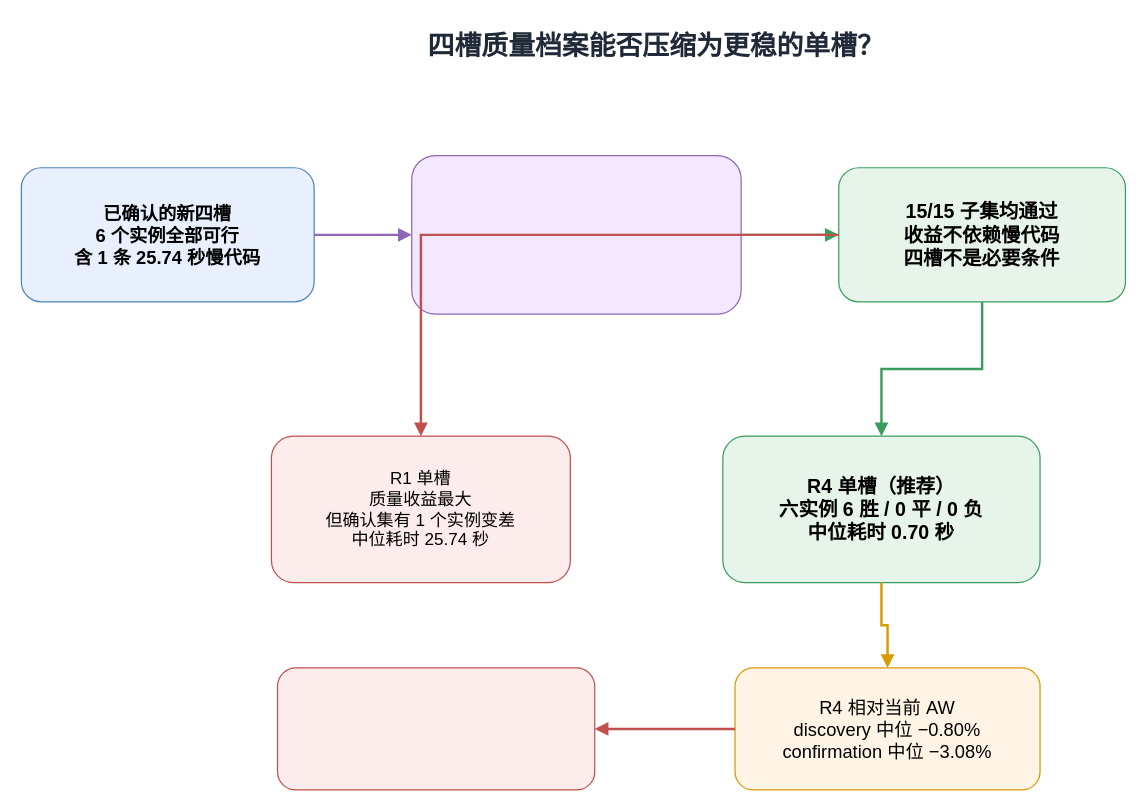
Some shapes in this 1147 by 811 pixel diagram are drawn without their labels. The shapes that lost their labels are listed below. From the top down, each one's centre as x and y in pixels, then its label:
At (x=576, y=234): "枚举全部 15 个非空子集 分别检查 discovery 与 confirmation 门槛不变".
At (x=435, y=728): "选择使用了 AZ 结果 必须再用全新实例确认 不能直接当最终部署结论".
